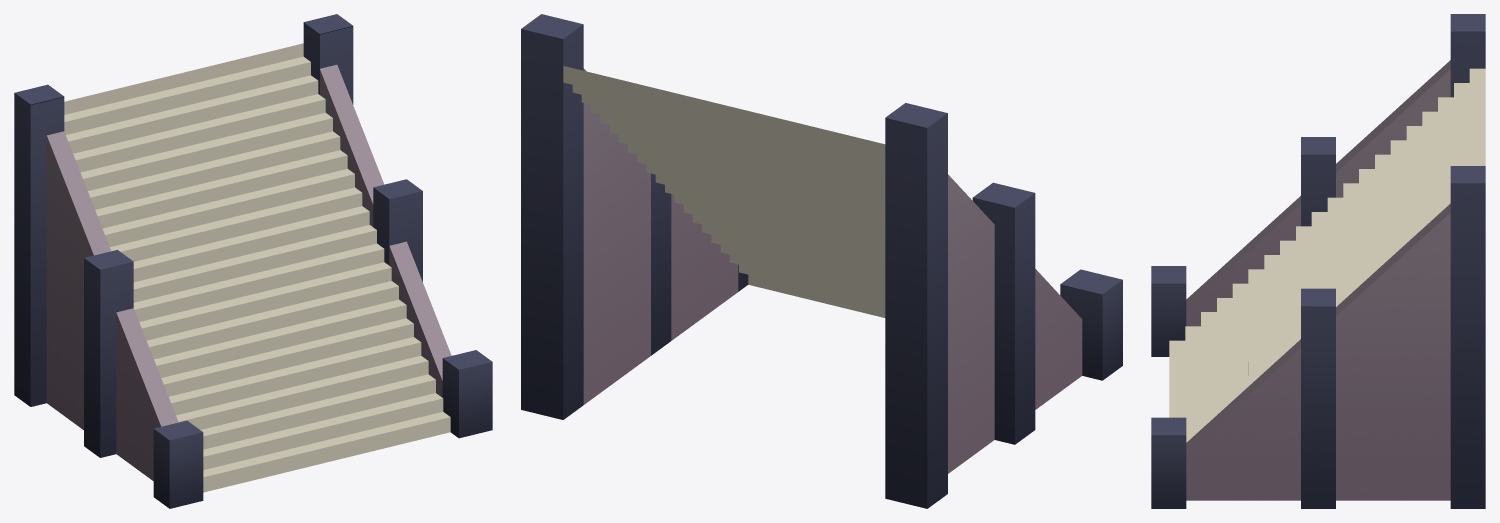
File: singleStair.fbx
3 views of the same model, side by side, from view 1: azimuth 30°, elevation 25°; view 2: azimuth 150°, elevation 25°; view 3: azimuth 270°, elevation 25° (orthographic). The views are drawn at different scales.
Visible parts, largest first — view 1: Cube.047; view 2: Cube.047; view 3: Cube.047.
Boxes of the visible parts, <box> form: Cube.047: <box>14,14,492,508</box>; Cube.047: <box>521,14,1122,508</box>; Cube.047: <box>1151,14,1485,508</box>.
Bounding box in the file's own units: 240 × 215 × 200.
